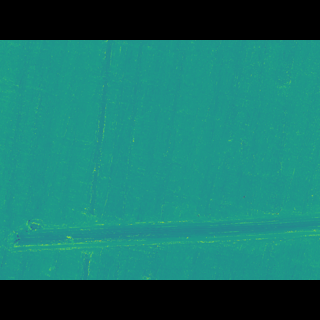Loch: (0, 193, 320, 231)
